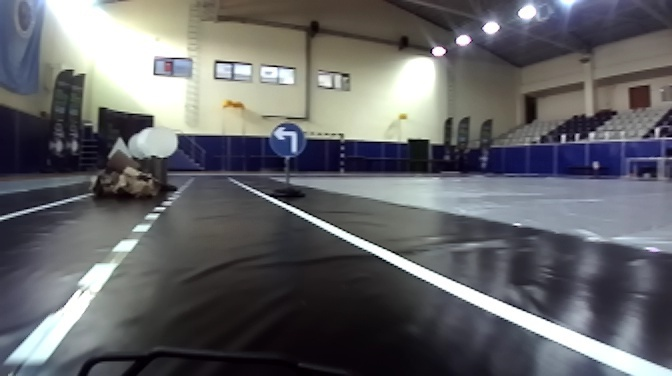sola_donus: (428, 1, 554, 124), (268, 120, 305, 158)
